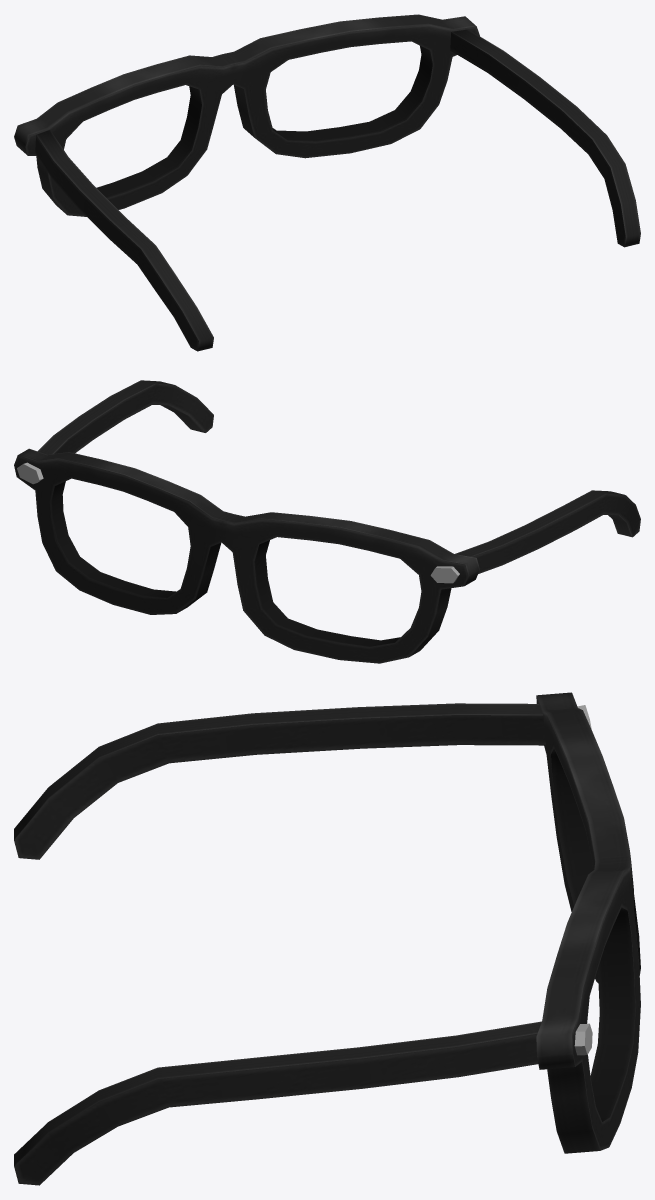
File: acc.glb
The picture shows the model from 3 angles, top to bottom: view 1: azimuth 30°, elevation 25°; view 2: azimuth 150°, elevation 25°; view 3: azimuth 270°, elevation 25°; orthographic projection. The views are drawn at different scales.
Parts seen in each view (by area): view 1: Handle; view 2: Handle; view 3: Handle.
Boxes of the visible parts, x1=… form: Handle: x1=14, y1=14, x2=640, y2=351; Handle: x1=14, y1=380, x2=640, y2=663; Handle: x1=14, y1=692, x2=640, y2=1185.
Size of the model in its own units: 1.21 by 0.3186 by 0.898.
1 material, 1 textured.
